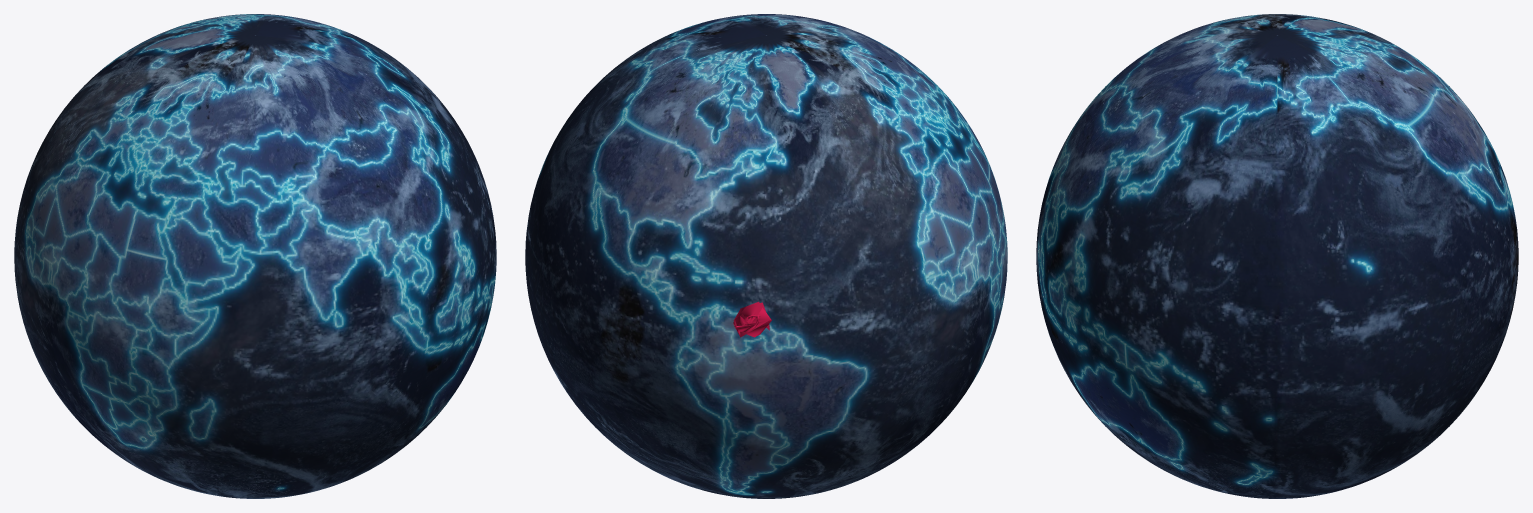
Rendered from VenezuelaRose0_0714.glb.
3 views of the same model, side by side, from view 1: azimuth 30°, elevation 25°; view 2: azimuth 150°, elevation 25°; view 3: azimuth 270°, elevation 25° (orthographic).
Visible parts, largest first — view 1: Globe; view 2: Globe, VenezuelaRoze; view 3: Globe.
Part boxes in pixels (x1,y1,x2,y2): Globe: [14, 14, 496, 498]; Globe: [525, 14, 1007, 498]; VenezuelaRoze: [733, 301, 771, 337]; Globe: [1036, 14, 1518, 498].
Size of the model in its own units: 1.97 by 2 by 1.97.
2 materials, 2 textured.
